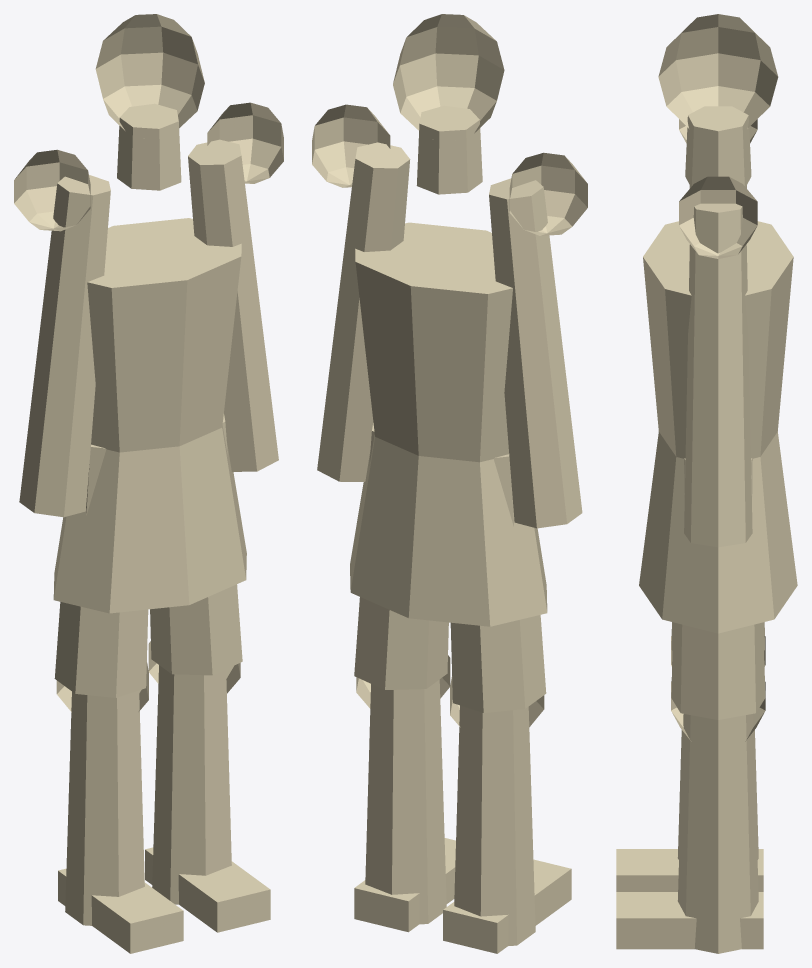
Rendered from dragons-and-wyverns-scale-reference-figure-528a6305__36754.glb.
3 renders of one model, left to right at view 1: azimuth 30°, elevation 25°; view 2: azimuth 150°, elevation 25°; view 3: azimuth 270°, elevation 25°, orthographic. The views are drawn at different scales.
Visible parts, largest first — view 1: scale-reference-figure; view 2: scale-reference-figure; view 3: scale-reference-figure.
Boxes of the visible parts, x1=… form: scale-reference-figure: x1=14, y1=14, x2=283, y2=953; scale-reference-figure: x1=312, y1=14, x2=587, y2=953; scale-reference-figure: x1=616, y1=14, x2=797, y2=953.
Bounding box in the file's own units: 0.5356 × 1.75 × 0.32.
